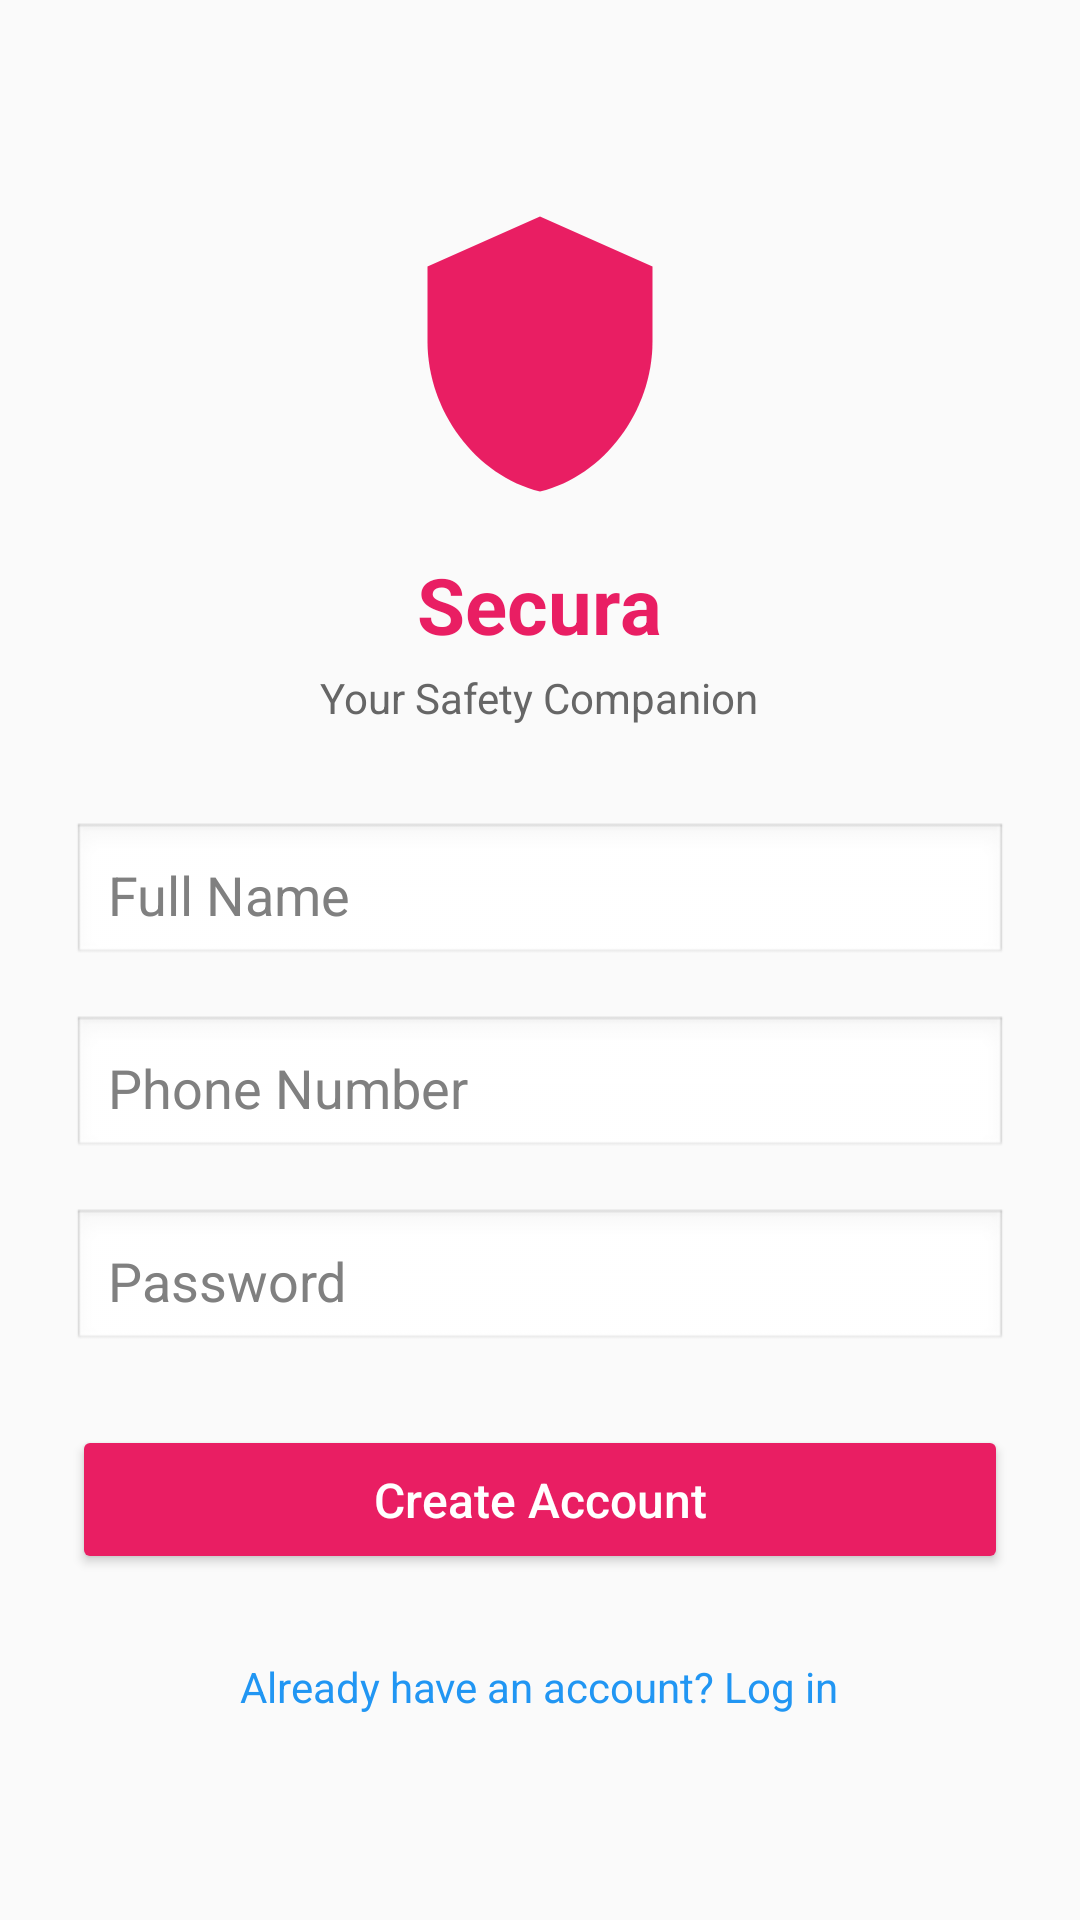

Screen size 1080×1920. Icon name, then its box in pixels as (x1, y1, x2, y2):
shield: (427, 216, 653, 492)
